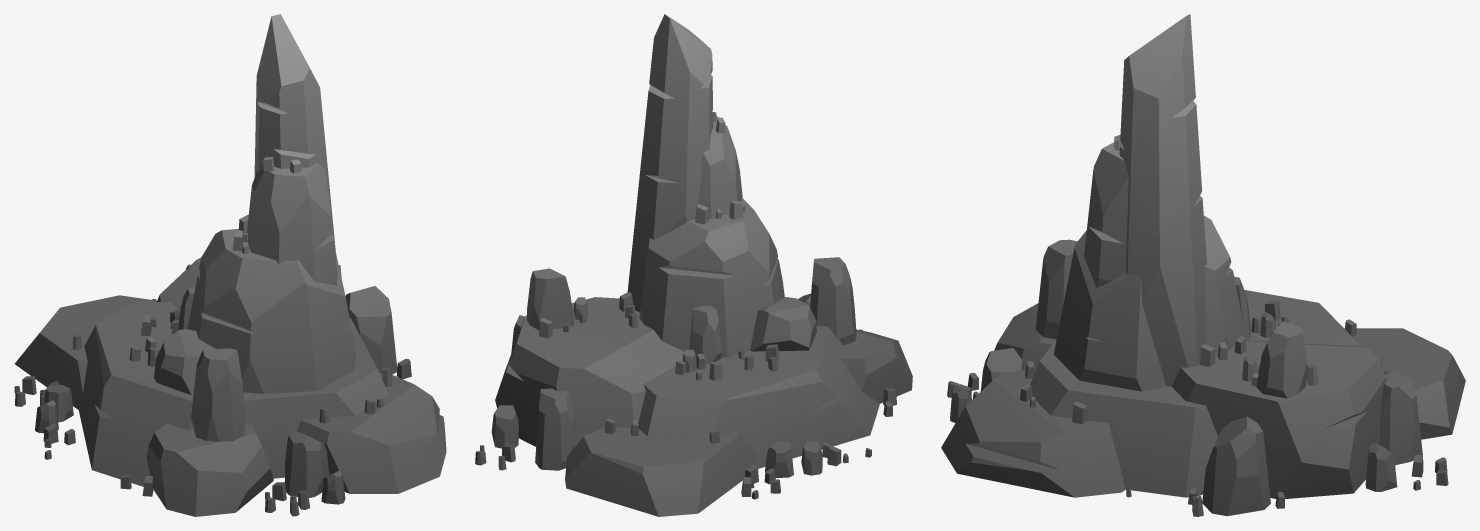
The model's file is BigRock_01.fbx.
3 views of the same model, side by side, from view 1: azimuth 30°, elevation 25°; view 2: azimuth 150°, elevation 25°; view 3: azimuth 270°, elevation 25° (orthographic). The views are drawn at different scales.
Parts seen in each view (by area): view 1: big_rock_03; view 2: big_rock_03; view 3: big_rock_03.
Boxes of the visible parts, box(x1,y1,x2,y2) form: big_rock_03: box(14, 14, 446, 516); big_rock_03: box(475, 14, 912, 516); big_rock_03: box(941, 14, 1465, 516).
Bounding box in the file's own units: 801 × 847 × 937.
Materials: 1 (1 with a texture image).
